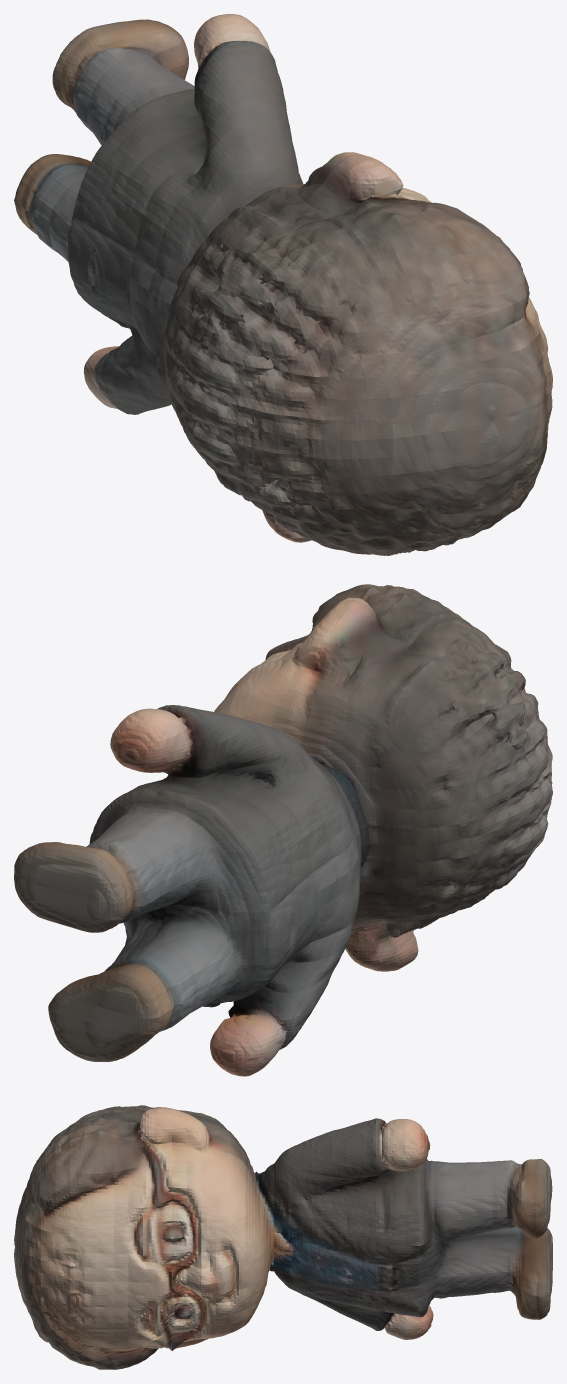
Rendered from character.glb.
The picture shows the model from 3 angles, top to bottom: view 1: azimuth 30°, elevation 25°; view 2: azimuth 150°, elevation 25°; view 3: azimuth 270°, elevation 25°; orthographic projection. The views are drawn at different scales.
Parts seen in each view (by area): view 1: world; view 2: world; view 3: world.
Part boxes in pixels (x1,y1,x2,y2): world: [14, 14, 552, 555]; world: [14, 584, 552, 1076]; world: [14, 1105, 552, 1369].
Bounding box in the file's own units: 0.4787 × 0.5336 × 1.01.
